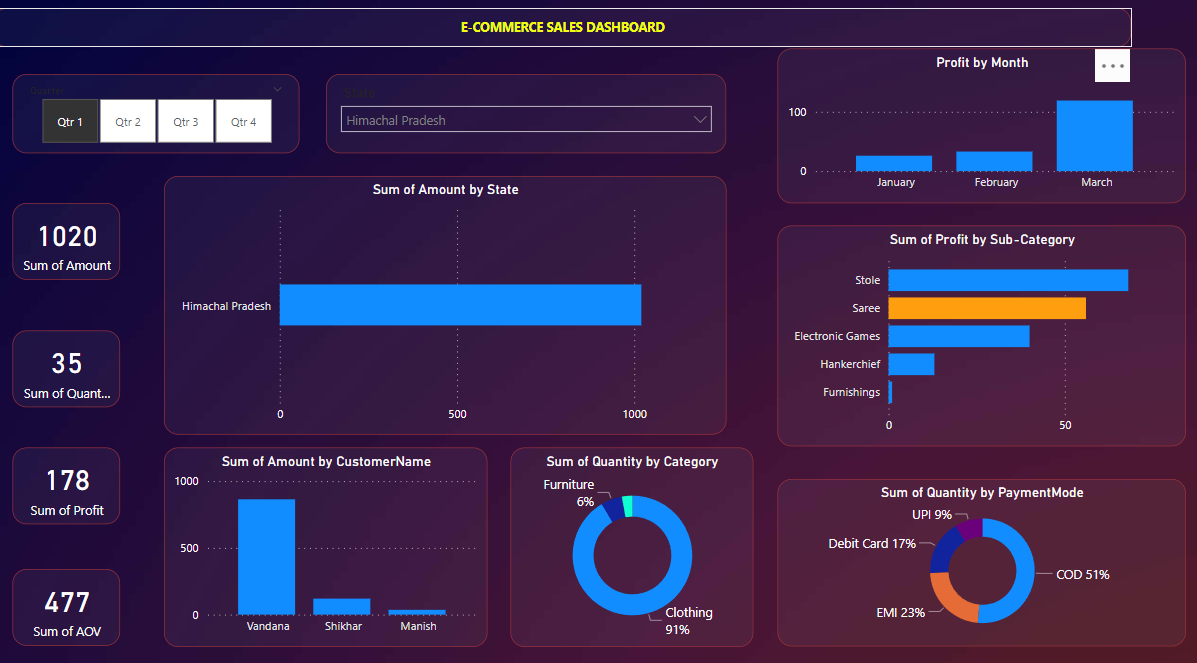

This screenshot's page, from the dashboard's own definition file:
{"tool":"powerbi","page":{"name":"Page 1","canvas":[1280,720],"ordinal":0},"visuals":[{"type":"textbox","box":[0,18.6,1205.7,41.4],"z":0},{"type":"columnChart","title":"Profit by Month","fields":{"Category":["Orders.Order Date.Variation.Date Hierarchy.Month"],"Y":["Details.Profit"]},"box":[831.4,61.4,432.9,164.3],"z":1000},{"type":"barChart","fields":{"Category":["Details.Sub-Category"],"Y":["Details.Profit"]},"box":[831.4,250,432.9,234.3],"z":2000},{"type":"donutChart","fields":{"Category":["Details.Category"],"Y":["Details.Quantity"]},"box":[548.6,484.3,257.1,211.4],"z":3000},{"type":"donutChart","fields":{"Category":["Details.PaymentMode"],"Y":["Details.Quantity"]},"box":[831.4,518.6,432.9,177.1],"z":4000},{"type":"card","fields":{"Values":["Details.Amount"]},"box":[20,225.7,114.3,81.4],"z":5000},{"type":"card","fields":{"Values":["Details.Quantity"]},"box":[20,360,114.3,81.4],"z":6000},{"type":"card","fields":{"Values":["Details.Profit"]},"box":[20,484.3,114.3,81.4],"z":7000},{"type":"card","fields":{"Values":["Details.AOV"]},"box":[20,614.3,114.3,81.4],"z":8000},{"type":"barChart","fields":{"Category":["Orders.State"],"Y":["Details.Amount"]},"box":[181.4,197.1,595.7,274.3],"z":9000},{"type":"columnChart","fields":{"Category":["Orders.CustomerName"],"Y":["Details.Amount"]},"box":[181.4,484.3,342.9,211.4],"z":10000},{"type":"slicer","fields":{"Values":["Orders.Order Date.Variation.Date Hierarchy.Quarter"]},"box":[20,88.6,304.3,84.3],"z":11000},{"type":"slicer","fields":{"Values":["Orders.State"]},"box":[352.9,88.6,424.3,84.3],"z":11001}]}

Visuals, with their boxes in screenshot pixels (x1, y1, x2, y2), scaled from the page's 1280x720 canvas onto the 1197x663 screenshot:
textbox: bbox=[0, 17, 1128, 55]
"Profit by Month" columnChart: bbox=[777, 57, 1182, 208]
barChart - Details.Sub-Category x Details.Profit: bbox=[777, 230, 1182, 446]
donutChart - Details.Category x Details.Quantity: bbox=[513, 446, 753, 641]
donutChart - Details.PaymentMode x Details.Quantity: bbox=[777, 478, 1182, 641]
card - Details.Amount: bbox=[19, 208, 126, 283]
card - Details.Quantity: bbox=[19, 332, 126, 406]
card - Details.Profit: bbox=[19, 446, 126, 521]
card - Details.AOV: bbox=[19, 566, 126, 641]
barChart - Orders.State x Details.Amount: bbox=[170, 181, 727, 434]
columnChart - Orders.CustomerName x Details.Amount: bbox=[170, 446, 490, 641]
slicer - Orders.Order Date.Variation.Date Hierarchy.Quarter: bbox=[19, 82, 303, 159]
slicer - Orders.State: bbox=[330, 82, 727, 159]
